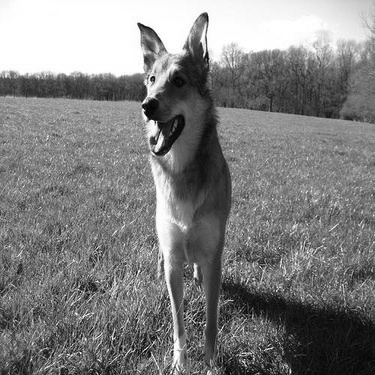dog: (101, 9, 245, 370)
